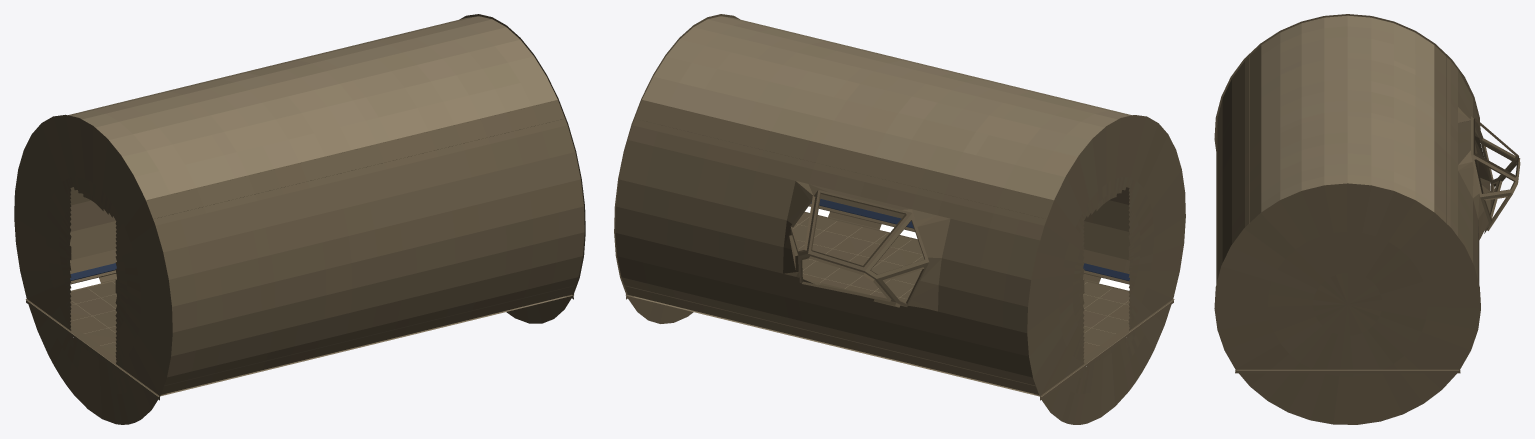
File: limbdeck.glb
3 views of the same model, side by side, from view 1: azimuth 30°, elevation 25°; view 2: azimuth 150°, elevation 25°; view 3: azimuth 270°, elevation 25° (orthographic). The views are drawn at different scales.
Parts seen in each view (by area): view 1: LIMBDECK; view 2: LIMBDECK; view 3: LIMBDECK.
Boxes of the visible parts, x1,y1,x2,y2 form: LIMBDECK: (14,14,585,424); LIMBDECK: (614,14,1185,424); LIMBDECK: (1214,14,1520,424).
Bounding box in the file's own units: 6.45 × 4.25 × 4.89.
